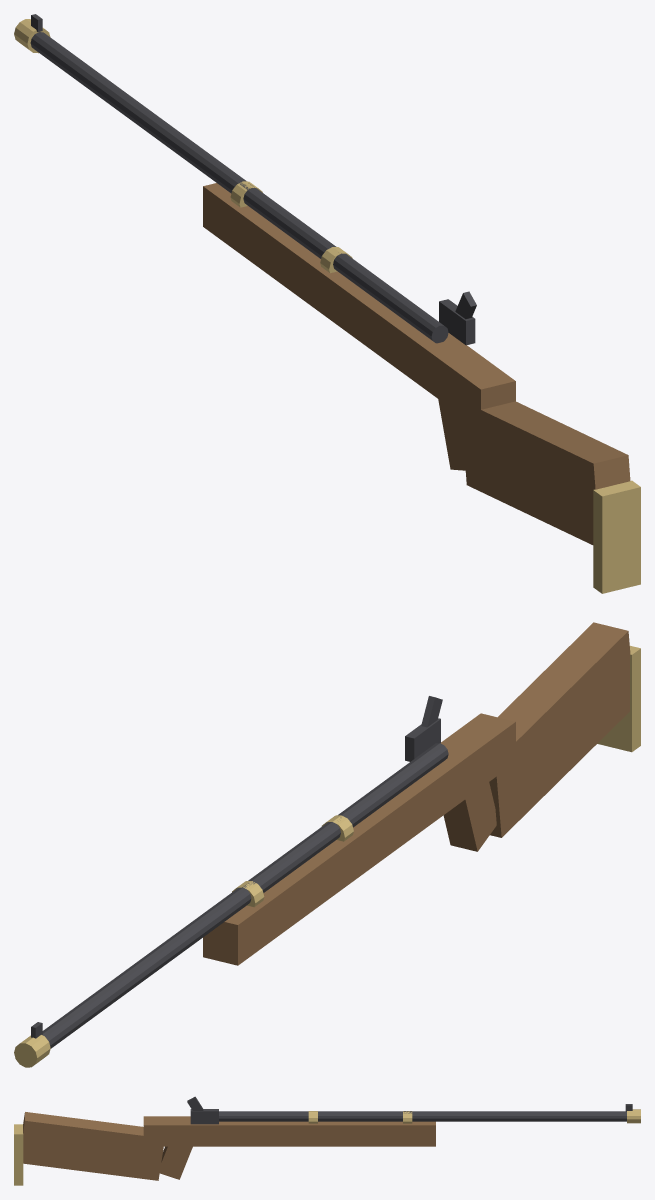
The model's file is musket.glb.
The picture shows the model from 3 angles, top to bottom: view 1: azimuth 30°, elevation 25°; view 2: azimuth 150°, elevation 25°; view 3: azimuth 270°, elevation 25°; orthographic projection. The views are drawn at different scales.
Visible parts, largest first — view 1: Musket; view 2: Musket; view 3: Musket.
Boxes of the visible parts, left/top/right/bottom form: Musket: left=14, top=14, right=640, bottom=593; Musket: left=14, top=622, right=640, bottom=1067; Musket: left=14, top=1096, right=640, bottom=1185.
Bounding box in the file's own units: 0.053 × 0.2052 × 1.33.
